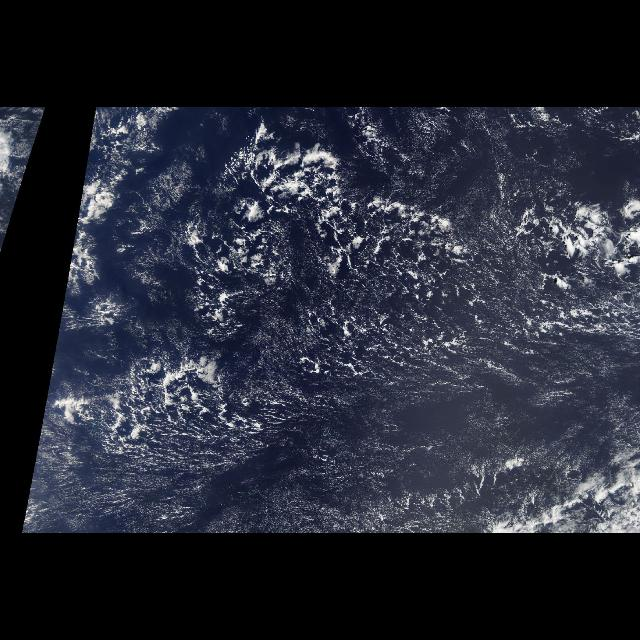Gravel: (73, 108, 639, 450)
Sugar: (40, 353, 640, 532), (363, 109, 637, 229), (134, 160, 188, 314)
